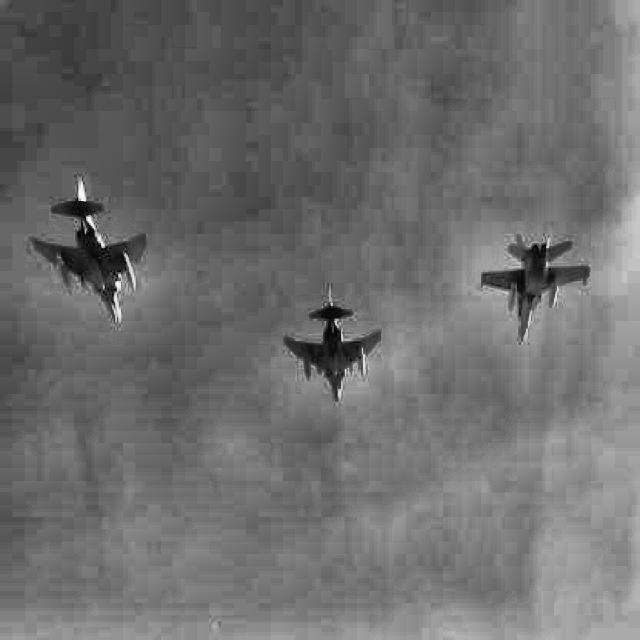F18: (479, 230, 590, 342)
F4: (31, 175, 147, 323), (285, 284, 380, 402)
